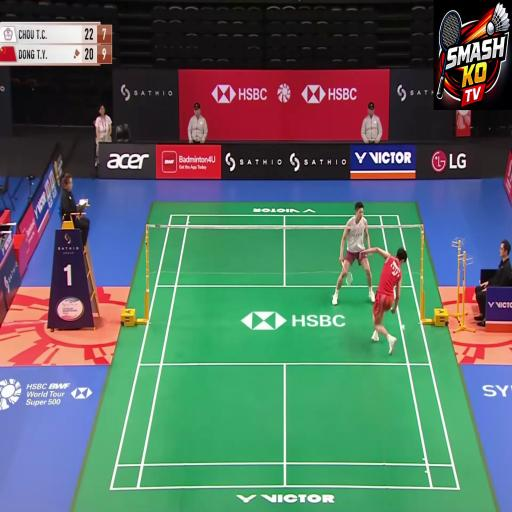player: (374, 226, 411, 379), (332, 184, 371, 324)
